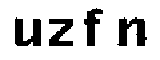f: (82, 6, 108, 50)
n: (114, 15, 148, 51)
u: (14, 13, 43, 49)
z: (46, 16, 75, 50)
